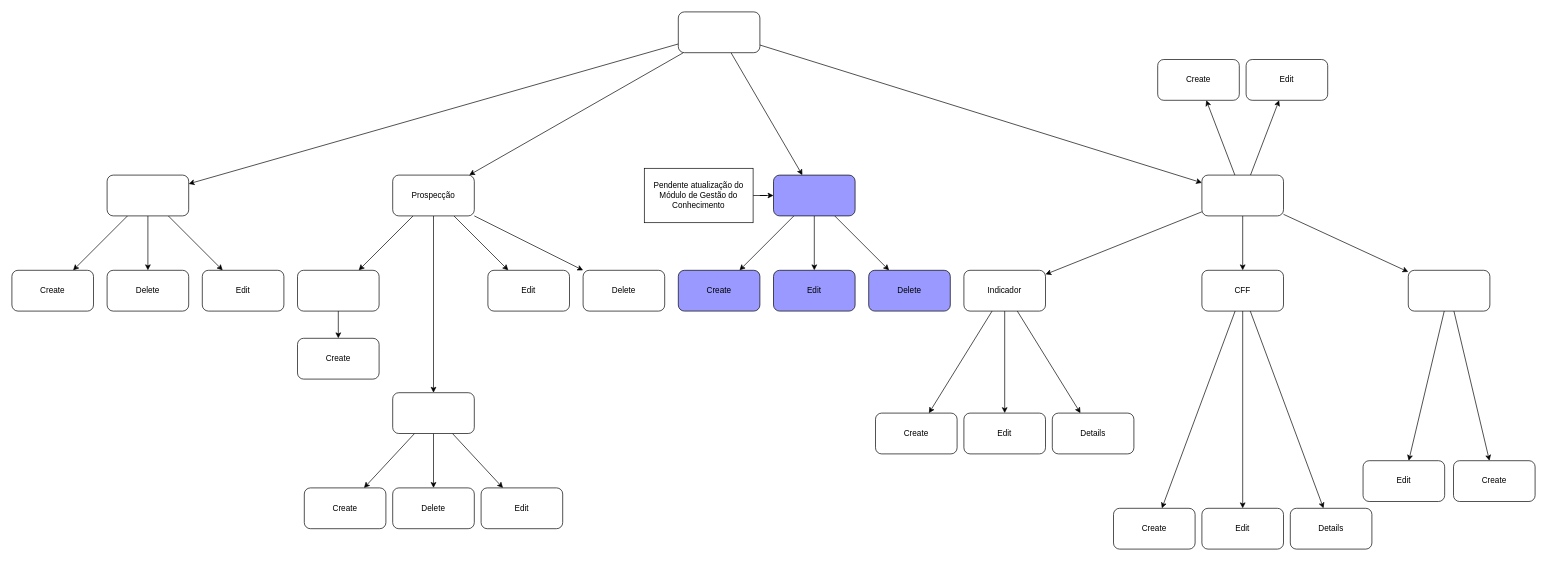
The diagram is 1547 pixels wide and 561 high, and some of its shapes have lost their labels. The shapes that lost their labels are listed below. From the top down, each one's centre as x and y in pixels, then its label:
At (719,32): "Módulos".
At (147,195): "Cargo".
At (814,195): "Produção".
At (1242,195): "Projeto".
At (338,290): "PreCreate".
At (1449,290): "Rubrica".
At (433,413): "Followup".
